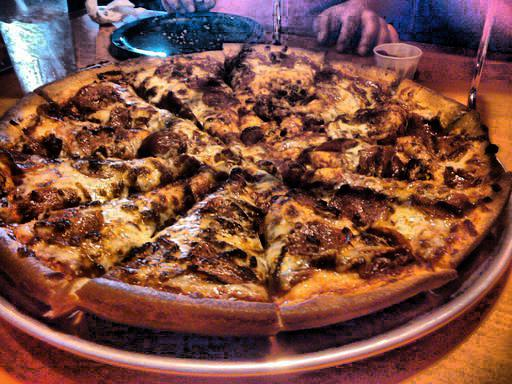pizza: (14, 61, 485, 312)
